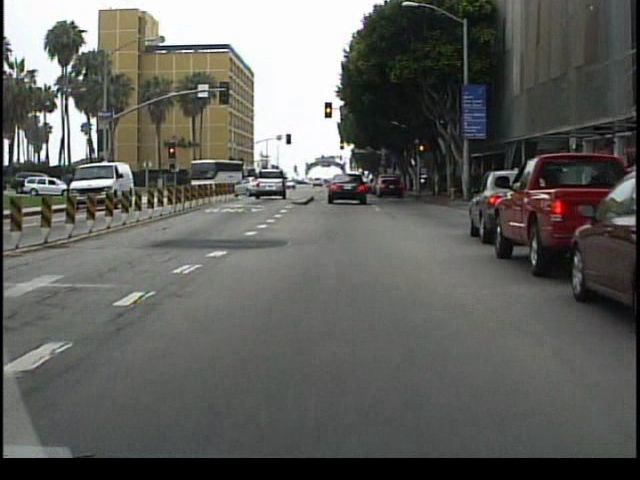person: (84, 174, 97, 208), (66, 170, 79, 200), (79, 173, 91, 203)
